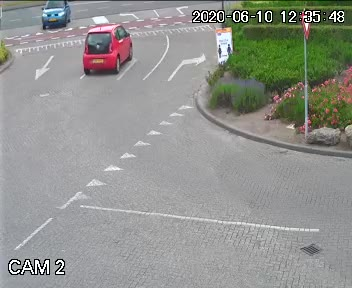car: (75, 23, 140, 81), (39, 0, 72, 32)
